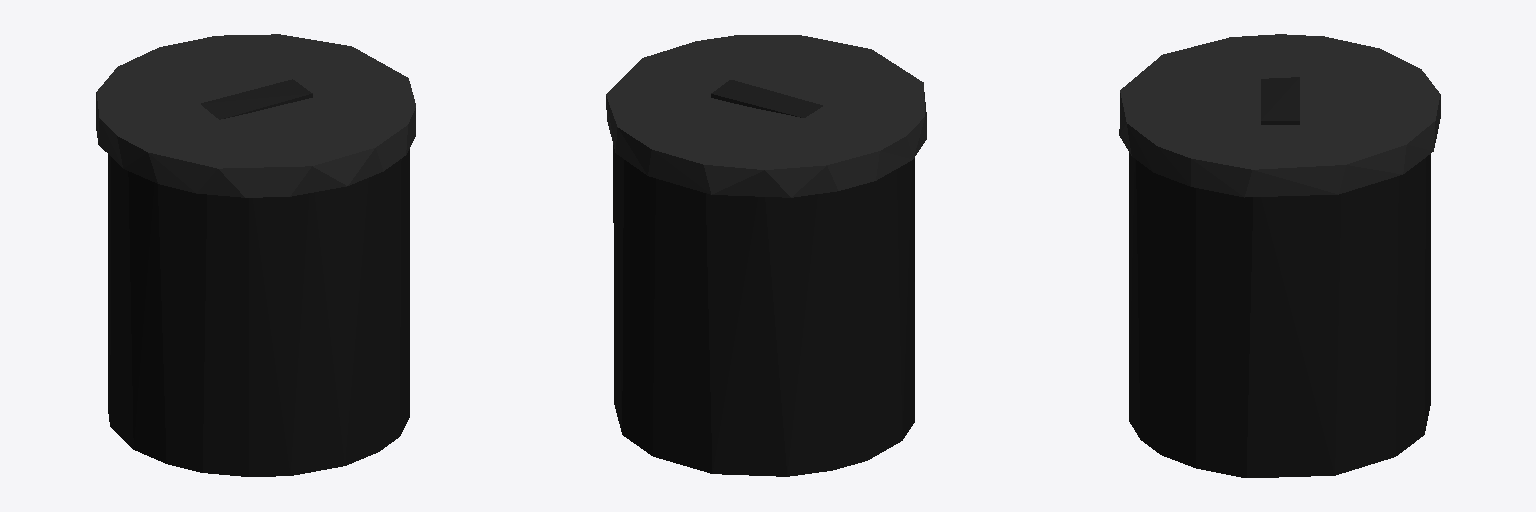
The model's file is trashcan.obj.
3 renders of one model, left to right at view 1: azimuth 30°, elevation 25°; view 2: azimuth 150°, elevation 25°; view 3: azimuth 270°, elevation 25°, orthographic.
Parts seen in each view (by area): view 1: Cylinder; view 2: Cylinder; view 3: Cylinder.
Part boxes in pixels (left/top/right/bottom): Cylinder: left=96, top=34, right=415, bottom=476; Cylinder: left=606, top=35, right=926, bottom=476; Cylinder: left=1119, top=34, right=1440, bottom=477.
Bounding box in the file's own units: 1 × 1.09 × 1.